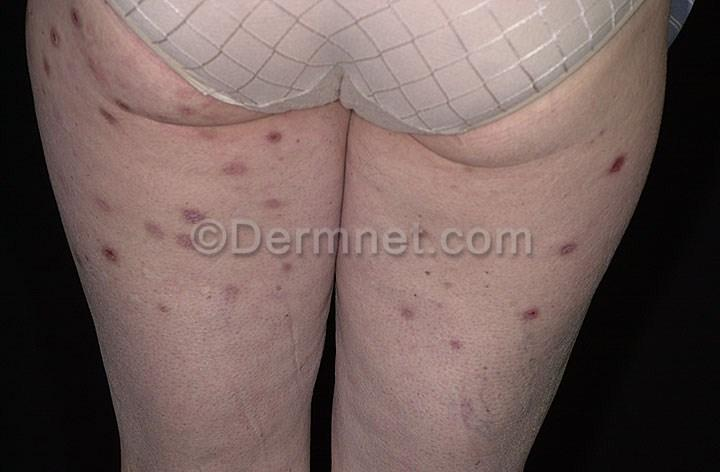Eczema: (30, 6, 104, 79), (143, 198, 211, 262), (441, 380, 499, 440), (82, 78, 139, 136), (575, 122, 628, 182), (262, 246, 318, 299), (137, 281, 187, 335), (429, 150, 481, 201), (450, 248, 495, 299), (436, 328, 489, 371), (85, 236, 131, 285), (197, 149, 257, 186), (391, 198, 436, 244), (159, 82, 208, 124), (542, 223, 588, 267), (418, 255, 459, 300), (508, 297, 550, 340), (250, 123, 303, 157), (380, 296, 427, 333), (79, 184, 120, 225), (254, 184, 297, 222), (216, 276, 256, 316), (268, 296, 301, 327), (316, 118, 344, 154), (358, 168, 387, 195), (306, 186, 337, 210)
